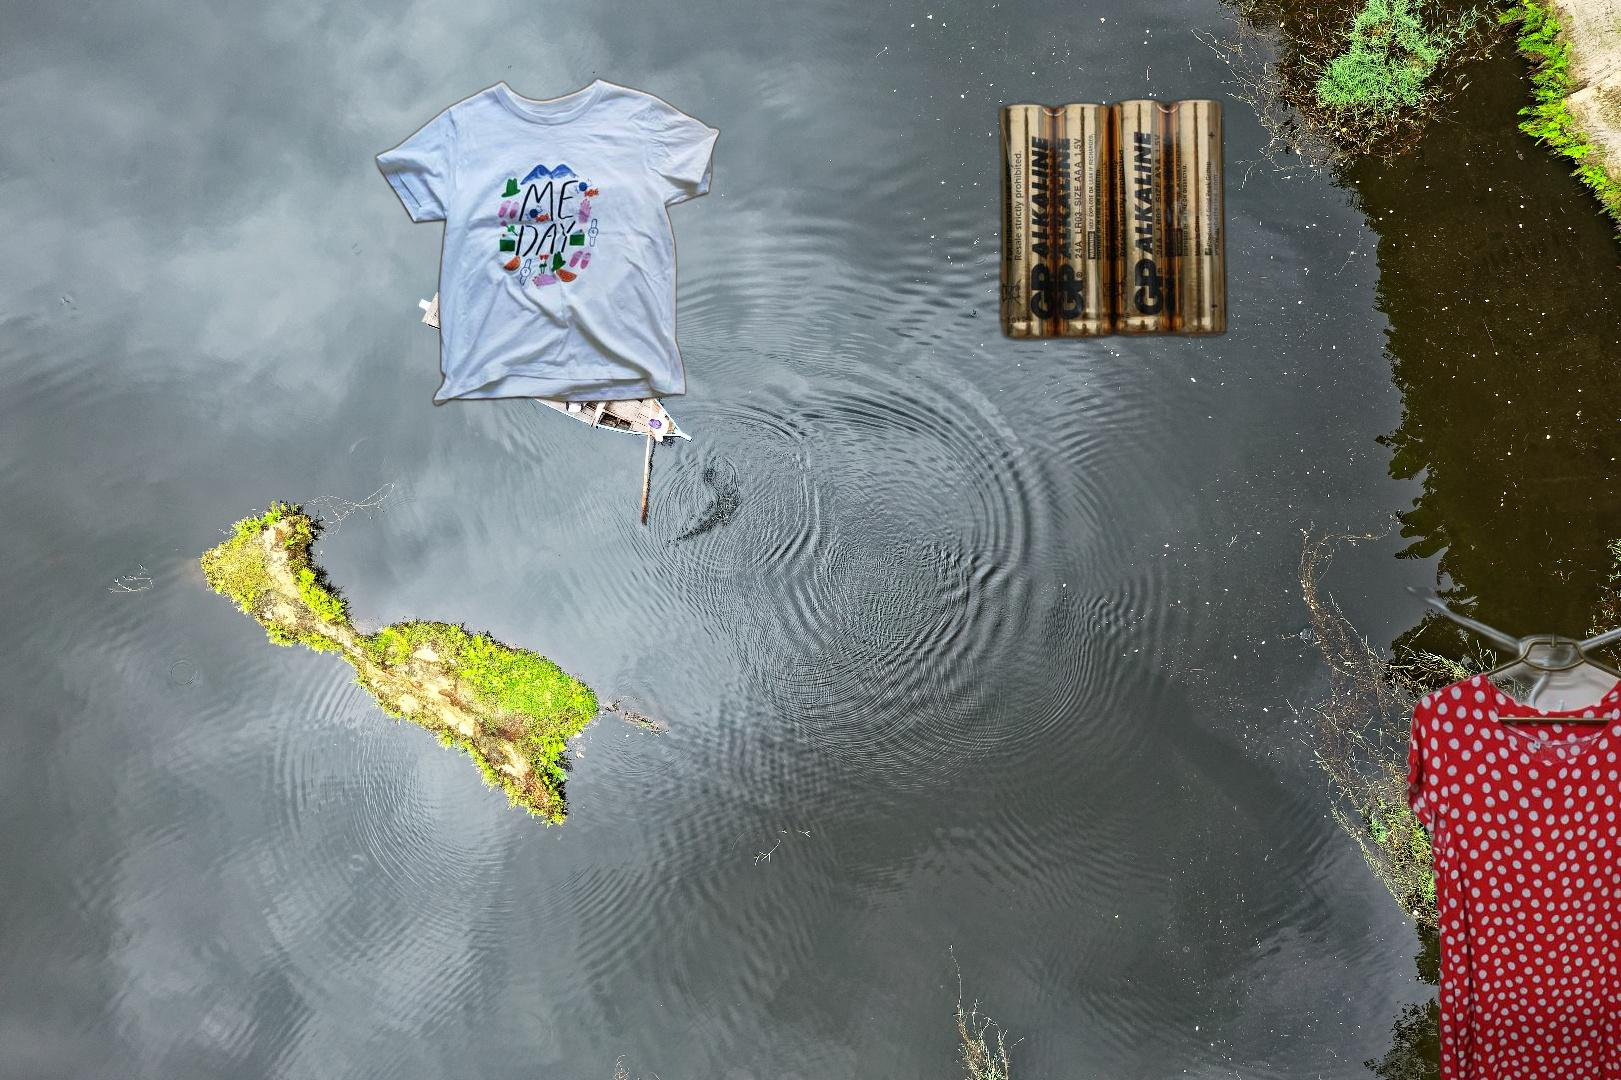battery: (991, 95, 1235, 346)
clothes: (372, 74, 724, 410), (1400, 587, 1621, 1080)
